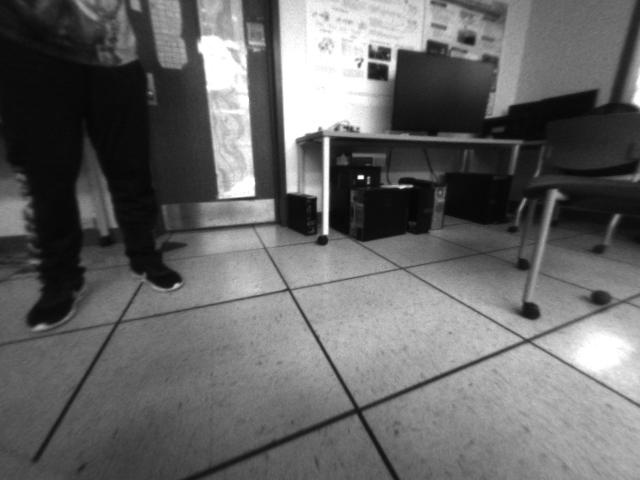dogtoy: (584, 282, 617, 309)
